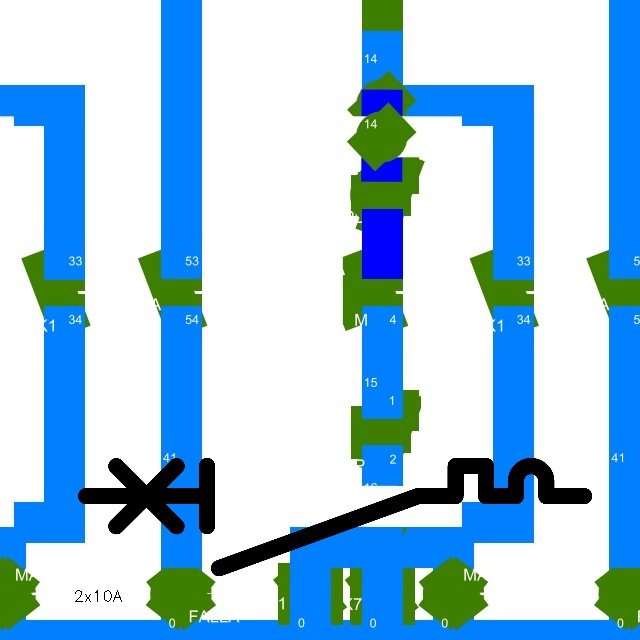interruptor_termomagnetico: (73, 453, 597, 581)
